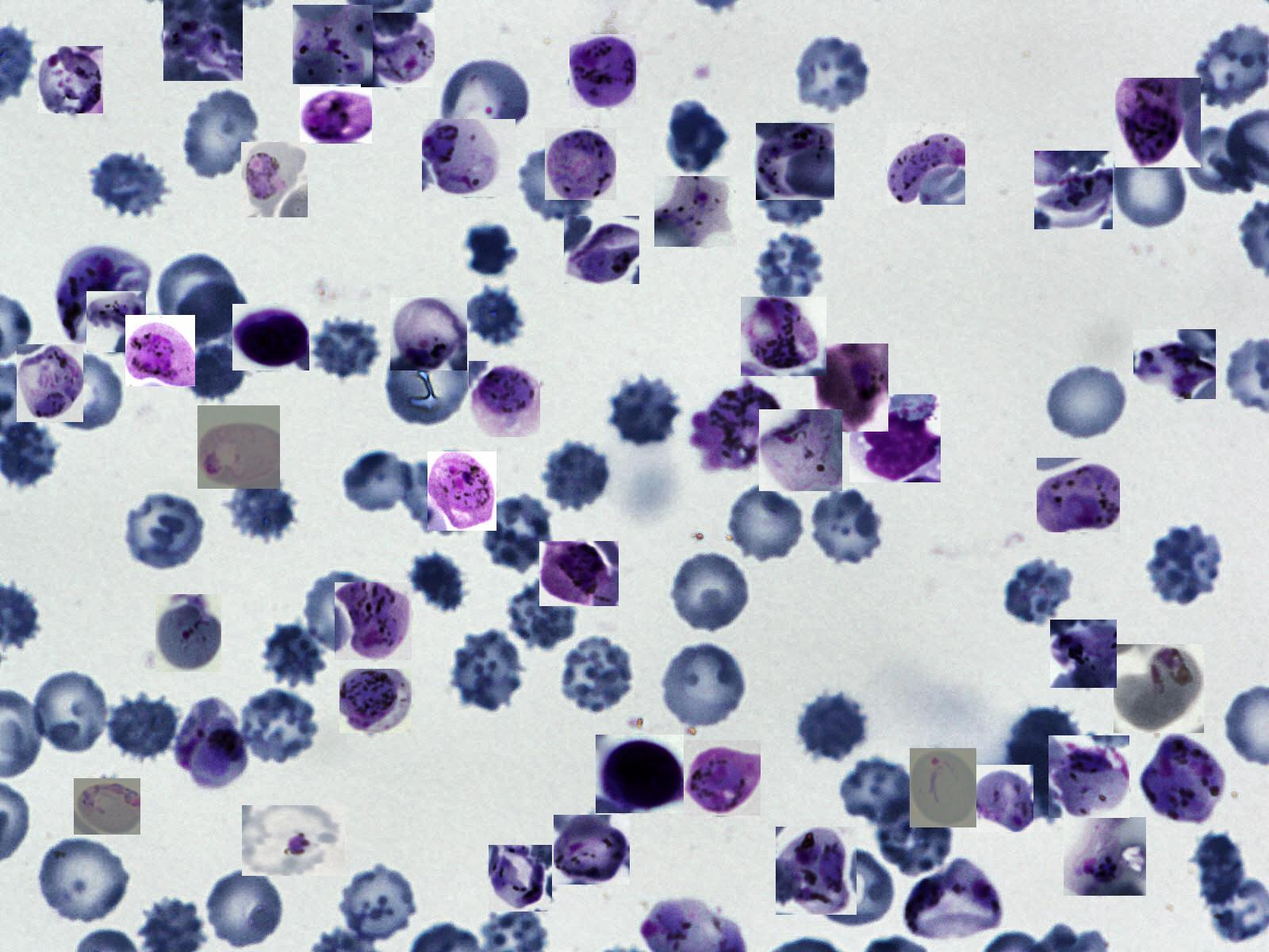Infected: (55, 244, 151, 351), (693, 377, 785, 475), (440, 56, 533, 152), (1138, 732, 1225, 827), (901, 859, 1003, 940), (849, 394, 941, 482), (1114, 644, 1204, 733), (1115, 78, 1201, 167), (422, 119, 516, 197), (242, 805, 345, 876), (171, 699, 250, 791), (776, 827, 857, 915), (197, 405, 280, 489), (596, 735, 684, 813), (759, 409, 842, 491), (741, 297, 826, 376), (812, 344, 888, 432), (1049, 735, 1129, 818), (163, 0, 243, 81), (1064, 817, 1146, 896), (887, 123, 965, 205), (293, 5, 373, 84), (1034, 151, 1113, 229), (1037, 458, 1120, 532), (335, 582, 412, 660), (757, 123, 834, 200), (683, 740, 761, 816), (654, 176, 737, 247), (1133, 329, 1216, 399), (390, 298, 467, 370), (427, 451, 496, 531), (362, 13, 435, 87), (469, 361, 540, 437), (554, 815, 630, 885), (910, 748, 976, 827), (539, 541, 619, 606), (155, 594, 221, 672), (17, 344, 83, 422), (545, 128, 616, 200), (564, 216, 639, 284), (232, 304, 309, 370), (241, 142, 308, 217), (126, 315, 196, 386), (569, 34, 636, 108), (339, 669, 412, 733), (1050, 620, 1117, 688), (37, 47, 103, 113), (969, 766, 1033, 832), (489, 845, 552, 912), (300, 86, 372, 144), (74, 778, 140, 835), (86, 291, 146, 352)
Uninfected: (154, 248, 247, 347), (33, 835, 132, 923), (1006, 707, 1080, 823), (658, 639, 747, 731), (179, 86, 263, 182), (1110, 138, 1192, 233), (386, 338, 473, 426), (30, 669, 113, 755), (873, 794, 956, 880), (337, 863, 423, 946), (41, 350, 128, 432), (724, 481, 808, 565), (806, 486, 891, 568), (302, 570, 385, 653), (669, 551, 753, 633), (122, 489, 207, 570), (554, 635, 637, 716), (1046, 361, 1130, 441), (789, 33, 873, 113), (1147, 522, 1221, 611), (811, 846, 891, 926), (448, 629, 527, 710), (236, 691, 321, 766), (476, 494, 555, 573), (397, 460, 477, 536), (205, 870, 284, 946), (607, 375, 684, 451), (86, 149, 171, 217), (837, 756, 918, 827), (751, 232, 825, 308), (516, 148, 595, 219), (661, 96, 731, 176), (1184, 126, 1263, 196), (107, 691, 181, 765), (796, 691, 869, 765), (1000, 552, 1075, 624), (171, 282, 251, 349), (179, 333, 250, 407), (339, 448, 417, 514), (308, 317, 381, 382), (227, 477, 297, 543), (508, 580, 573, 647), (758, 163, 825, 228), (546, 440, 609, 508), (462, 284, 523, 349), (406, 550, 466, 616), (264, 623, 327, 685)
